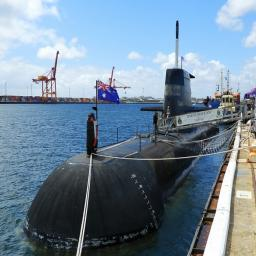submarine: (22, 22, 214, 255)
